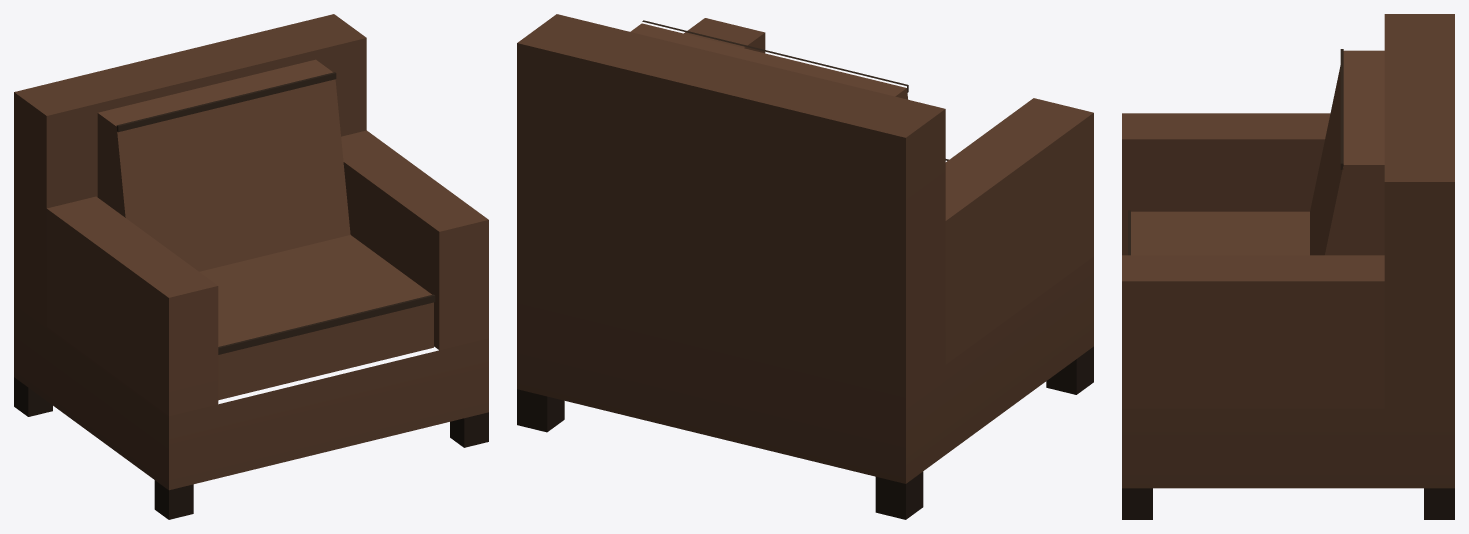
File: sofa.armchair.leather.glb
3 views of the same model, side by side, from view 1: azimuth 30°, elevation 25°; view 2: azimuth 150°, elevation 25°; view 3: azimuth 270°, elevation 25° (orthographic). The views are drawn at different scales.
Visible parts, largest first — view 1: sofa_armchair_leather; view 2: sofa_armchair_leather; view 3: sofa_armchair_leather.
Part boxes in pixels (x1,y1,x2,y2): sofa_armchair_leather: (14,14,488,519); sofa_armchair_leather: (517,14,1093,519); sofa_armchair_leather: (1122,14,1454,519).
Size of what is drawn, in the model's own units: 0.905 by 0.85 by 0.758.
